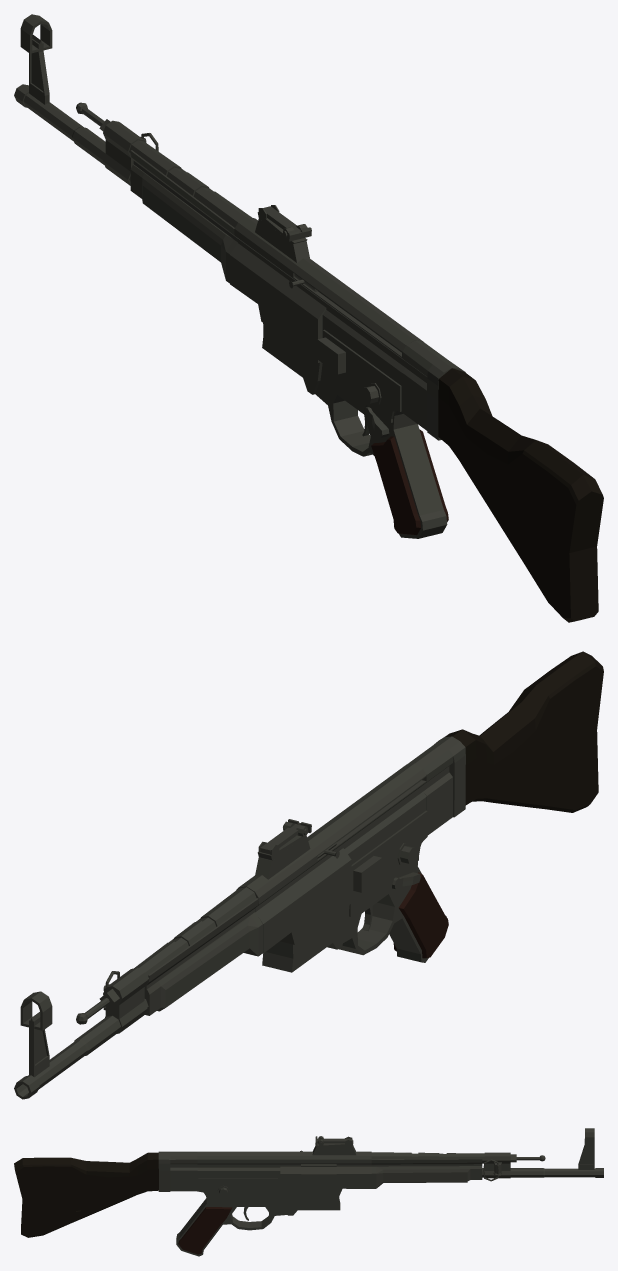
File: gun.glb
3 views of the same model, one above another, from view 1: azimuth 30°, elevation 25°; view 2: azimuth 150°, elevation 25°; view 3: azimuth 270°, elevation 25° (orthographic). The views are drawn at different scales.
Parts seen in each view (by area): view 1: stg-44-gun; view 2: stg-44-gun; view 3: stg-44-gun.
Part boxes in pixels (left/top/right/bottom): stg-44-gun: left=14, top=14, right=603, bottom=622; stg-44-gun: left=14, top=651, right=603, bottom=1099; stg-44-gun: left=14, top=1128, right=603, bottom=1256.
Size of the model in its own units: 0.044 by 0.2198 by 0.9405.
